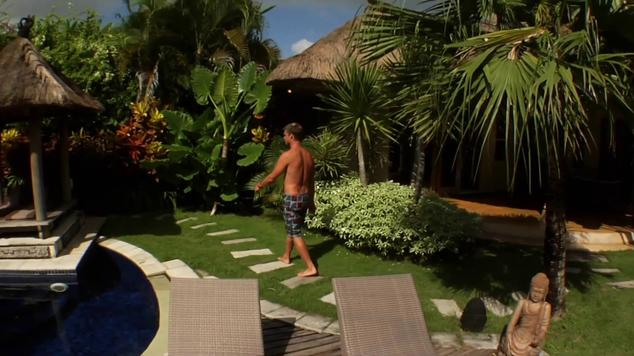down: (505, 276, 553, 349)
sit: (505, 276, 553, 349)
walk: (256, 128, 319, 259)
